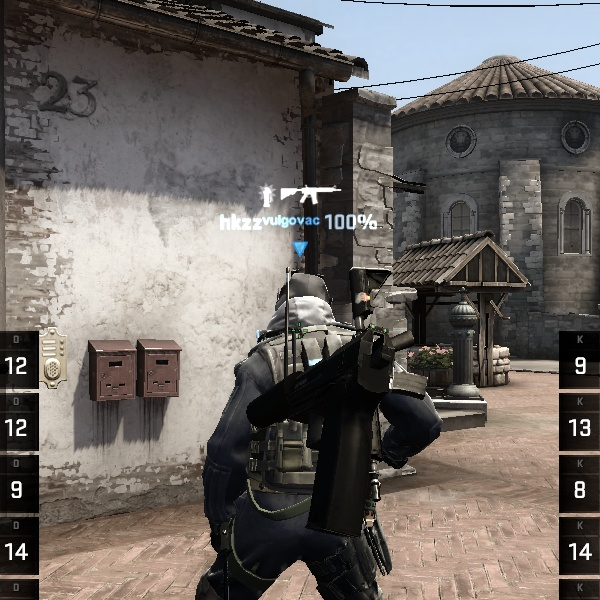ct_body: (155, 264, 471, 600)
ct_head: (251, 261, 342, 349)
